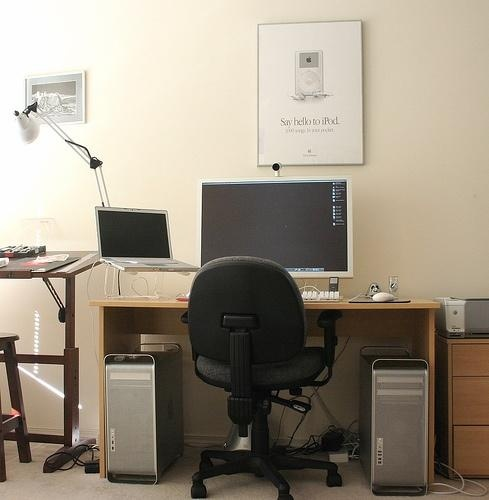chair: (181, 259, 344, 500)
tvmonitor: (196, 179, 354, 282)
